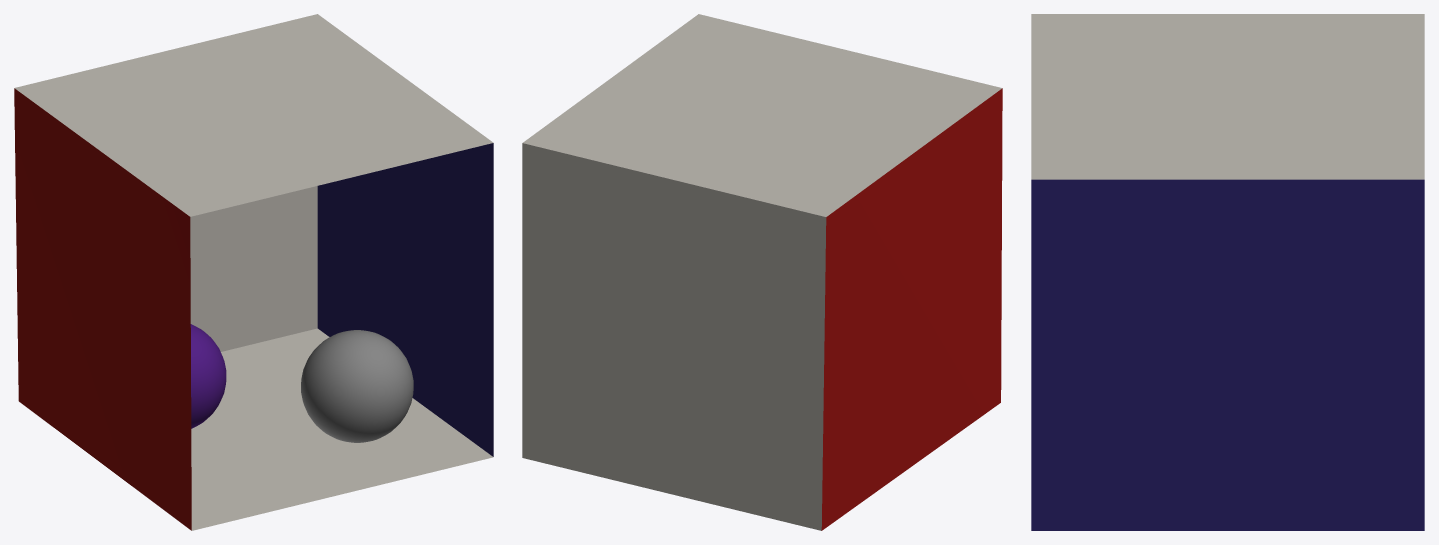
The model's file is CornellBox-Sphere.obj.
3 views of the same model, side by side, from view 1: azimuth 30°, elevation 25°; view 2: azimuth 150°, elevation 25°; view 3: azimuth 270°, elevation 25° (orthographic). The views are drawn at different scales.
Parts seen in each view (by area): view 1: leftWall, ceiling, rightWall, floor, backWall, rightSphere, leftSphere; view 2: backWall, leftWall, ceiling; view 3: rightWall, ceiling.
Part boxes in pixels (box(x1,y1,x2,y2)): leftWall: box(14, 88, 191, 530); ceiling: box(14, 14, 493, 216); rightWall: box(317, 143, 493, 456); floor: box(191, 328, 493, 530); backWall: box(190, 186, 317, 351); rightSphere: box(301, 330, 413, 442); leftSphere: box(190, 324, 226, 428); backWall: box(522, 143, 826, 530); leftWall: box(821, 88, 1002, 530); ceiling: box(523, 14, 1002, 216); rightWall: box(1031, 179, 1424, 530); ceiling: box(1031, 14, 1424, 179).
Size of the model in its own units: 2.02 by 2 by 2.03.
